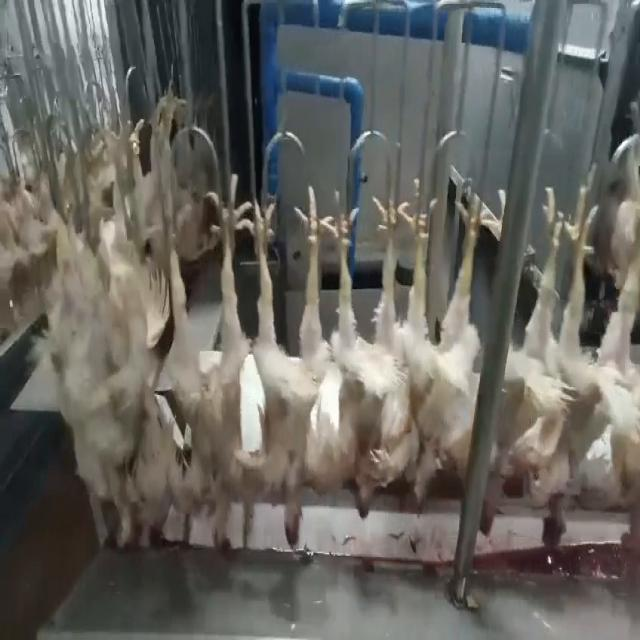chicken: (387, 178, 496, 518), (508, 162, 598, 562), (172, 170, 255, 543), (250, 180, 327, 552), (322, 170, 402, 519), (96, 189, 171, 556), (596, 183, 640, 561)
